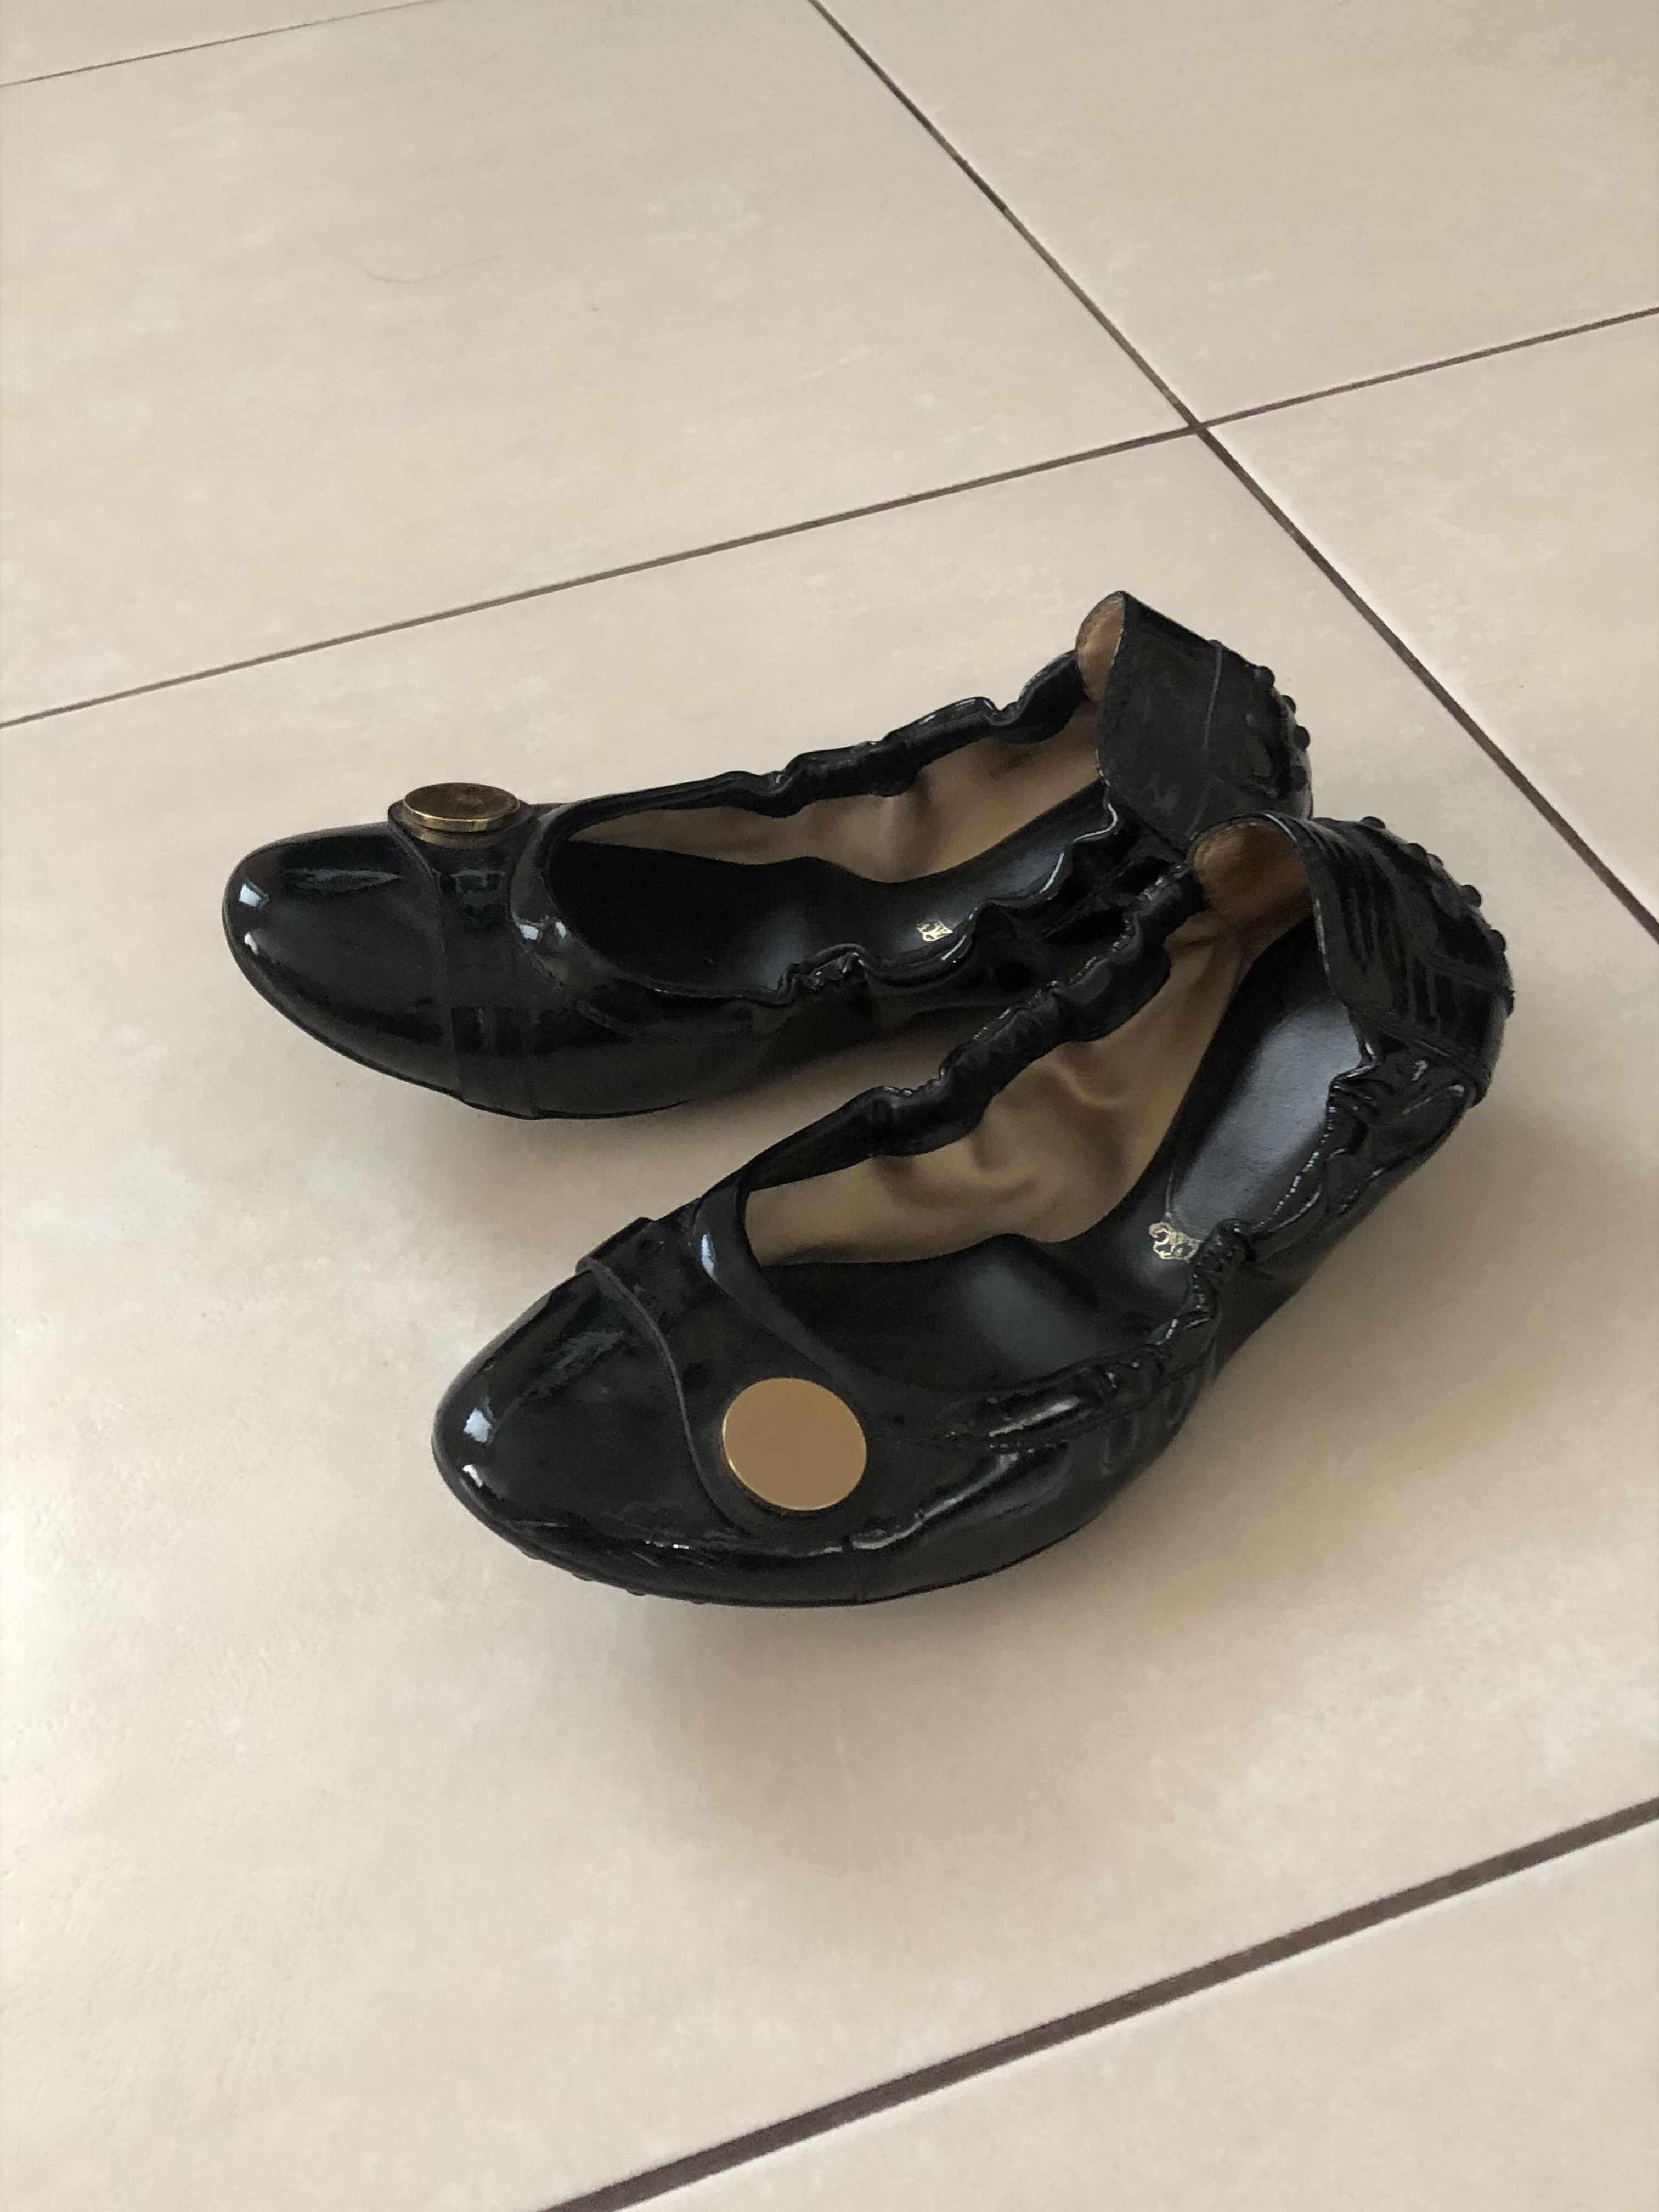clothes: (213, 578, 1520, 1629)
